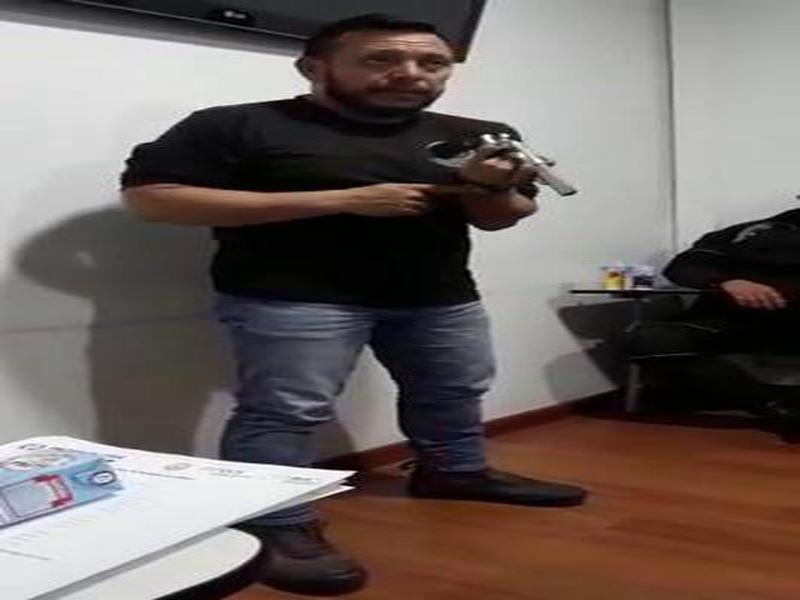Revolver: (436, 120, 594, 231)
